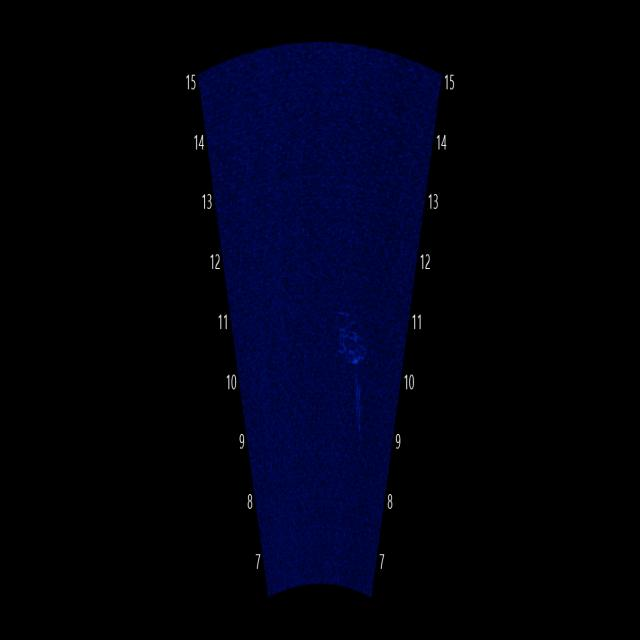circle: (335, 289, 374, 370)
